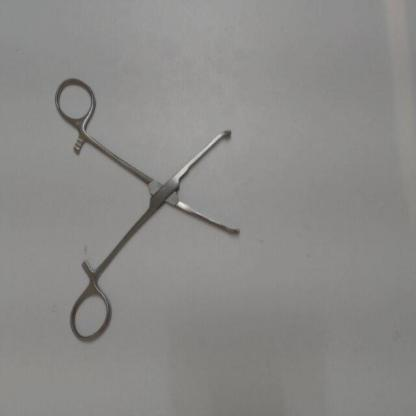Allis Tissue Forceps: (48, 69, 251, 350)
